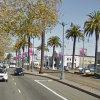Tree: (43, 6, 100, 65)
